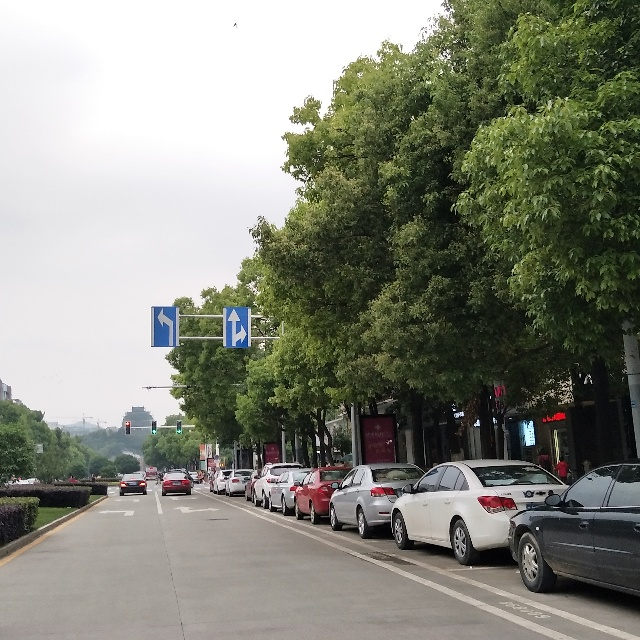left: (156, 307, 177, 349)
